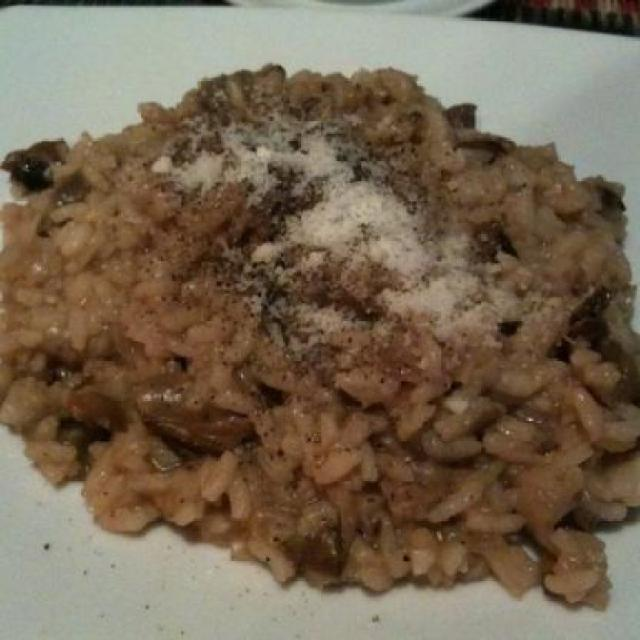Risotto: (19, 54, 618, 602)
